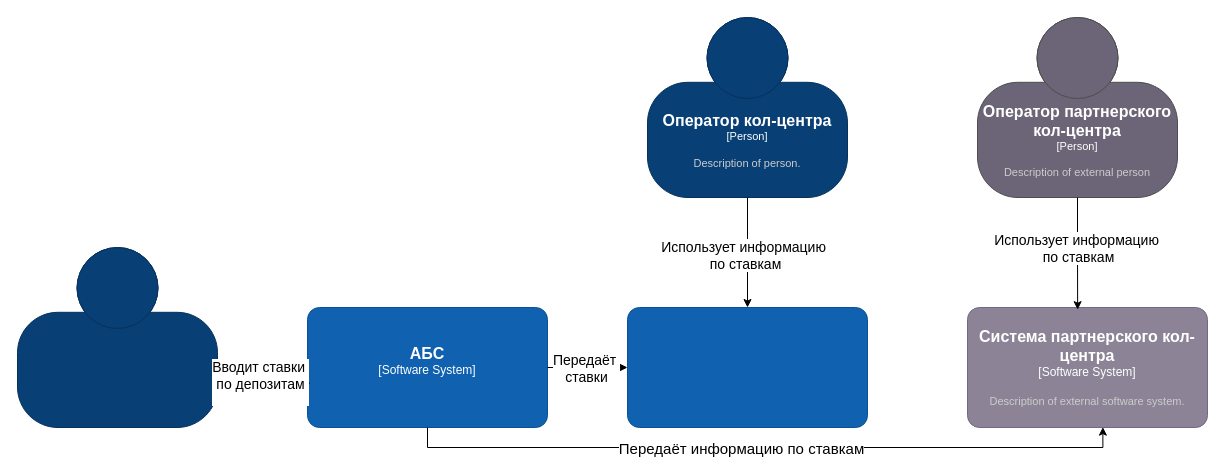
Some shapes in this 1225 by 474 pixel diagram are drawn without their labels. Here are the shapes that lost their labels. From the top down, the box of each, then its label:
(16, 246, 218, 428): Сотрудник бэк-офиса [Person] Description of person.
(626, 306, 868, 428): Система кол-центра [Software System] Description of software system.
